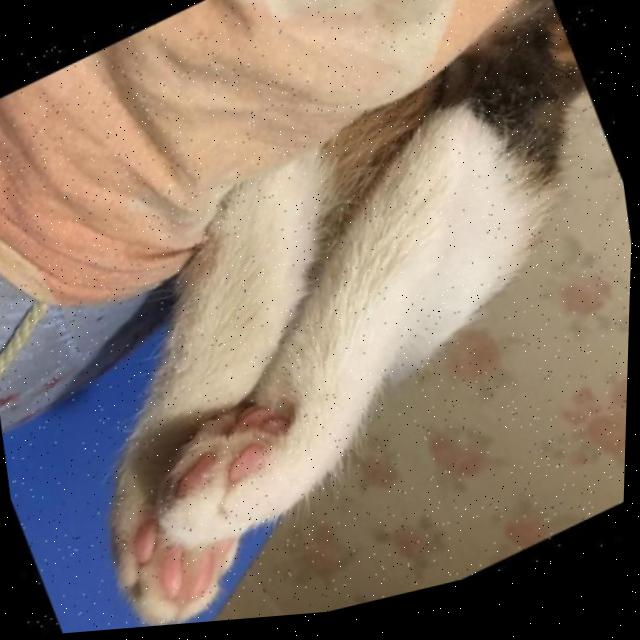Cats: (0, 8, 639, 640)
